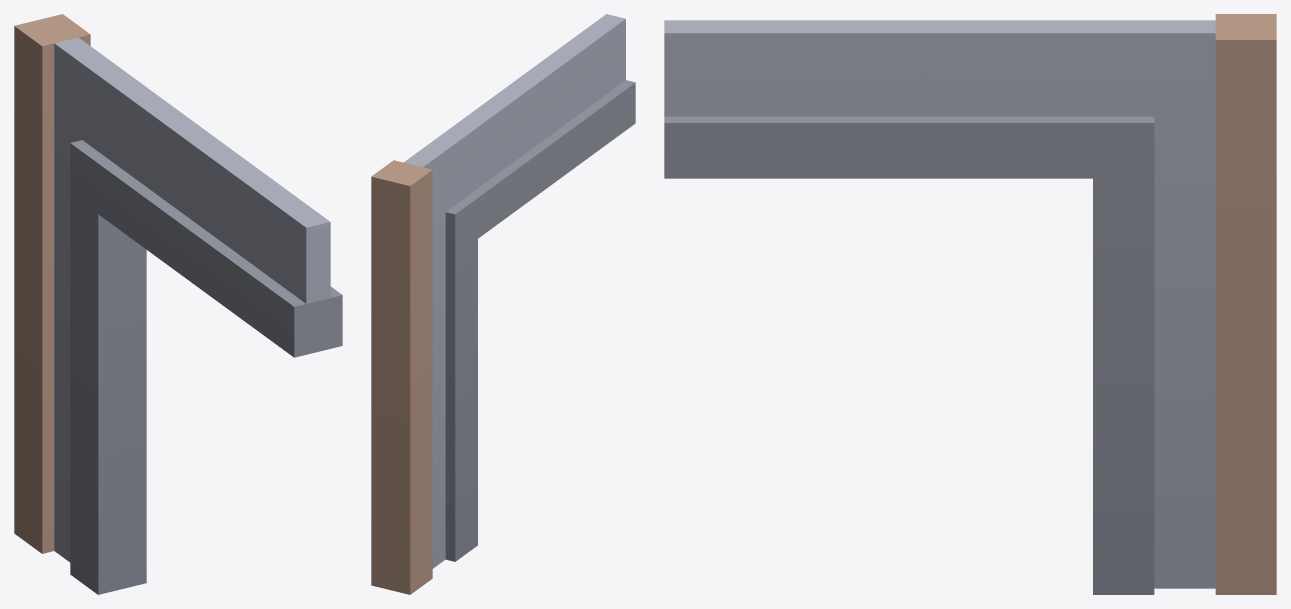
Rendered from wall-doorway-square-wide.glb.
The picture shows the model from 3 angles, left to right: view 1: azimuth 30°, elevation 25°; view 2: azimuth 150°, elevation 25°; view 3: azimuth 270°, elevation 25°; orthographic projection. The views are drawn at different scales.
Visible parts, largest first — view 1: wall-doorway-square-wide; view 2: wall-doorway-square-wide; view 3: wall-doorway-square-wide.
Part boxes in pixels (x1,y1,x2,y2): wall-doorway-square-wide: (14,14,342,594); wall-doorway-square-wide: (371,14,635,594); wall-doorway-square-wide: (664,14,1276,594).
Size of the model in its own units: 0.1 by 1 by 1.
